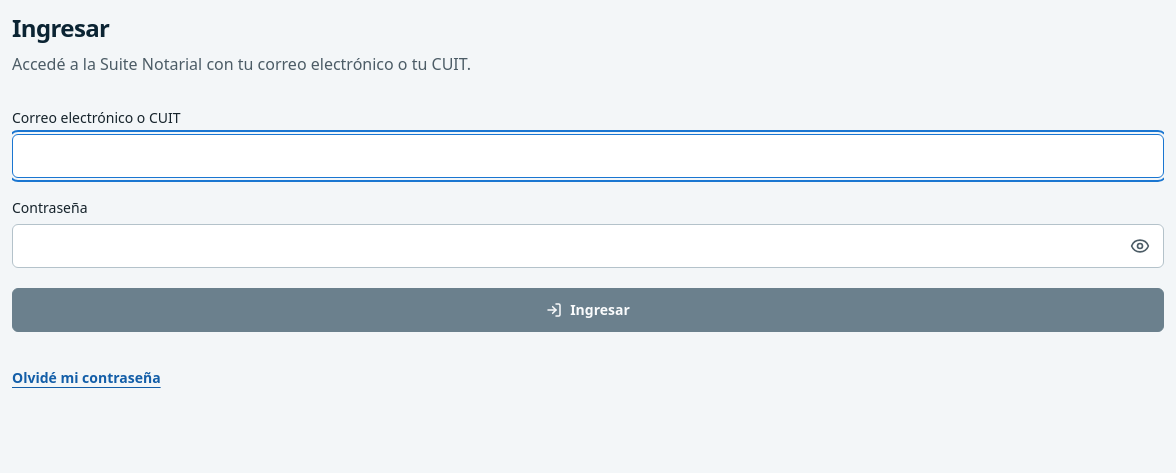
Test: LoginPage › muestra el error genérico del servidor
Type "escribano@suite-notarial.example" into the field labelled "Correo electrónico o CUIT" at [588, 156], box [12,134,1164,178]
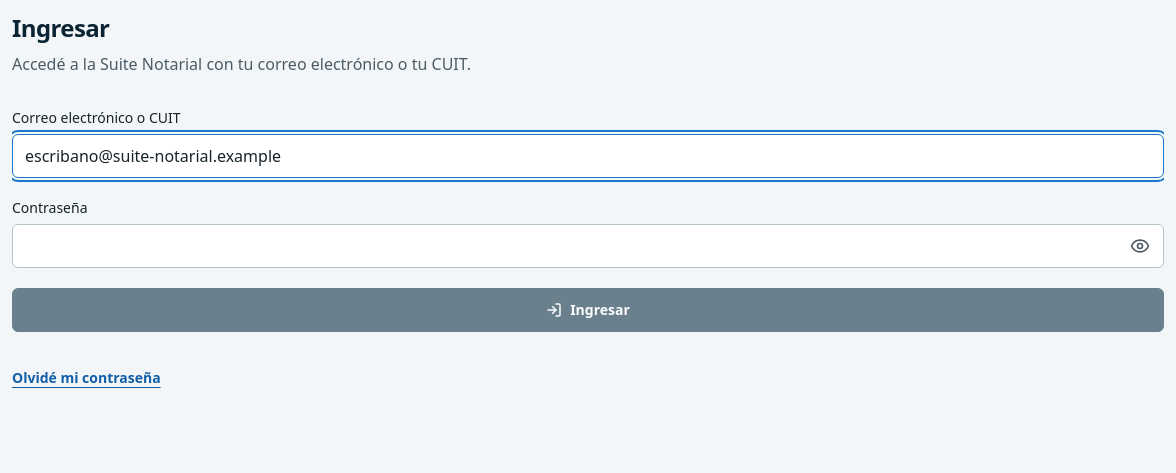
Type "Clave-Segura-1!" into the password field labelled "Contraseña" at [588, 246], box [12,224,1164,268]
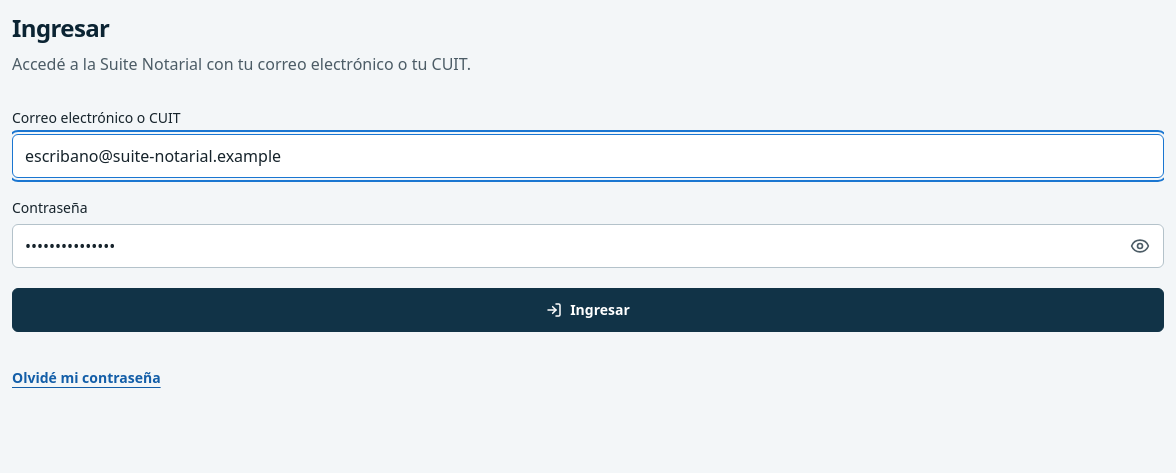
Click the button "Ingresar" at [588, 310], box [12,288,1164,332]
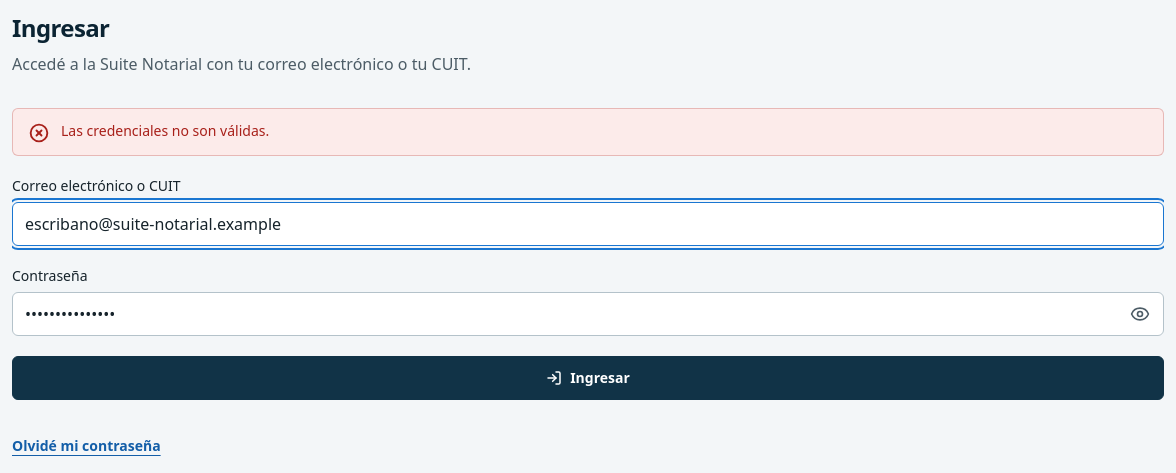
Expected: the message reads "Las credenciales no son válidas.", [61,121,269,140]
